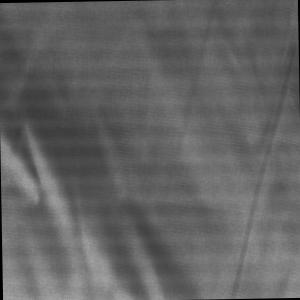Wrinkle: (1, 1, 210, 300), (223, 1, 300, 299)
